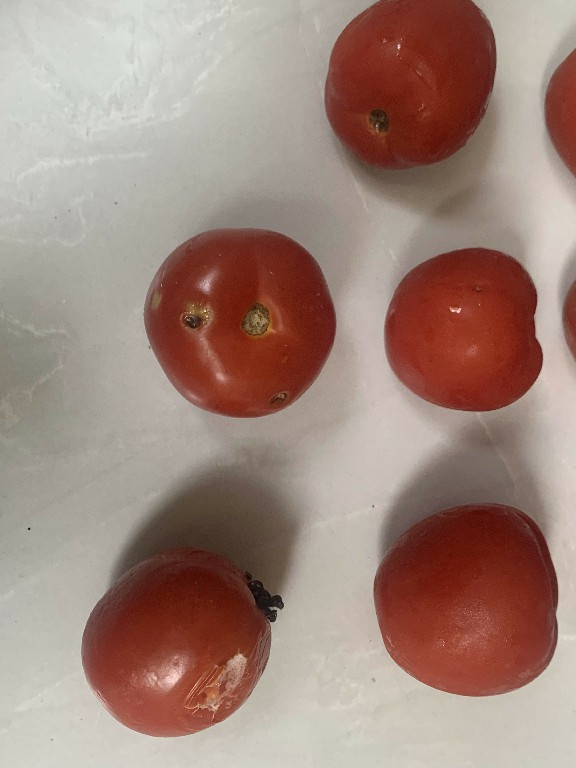NG: (63, 538, 291, 753), (135, 219, 346, 431)
OK: (356, 490, 568, 708), (375, 237, 557, 449), (303, 1, 508, 178)
